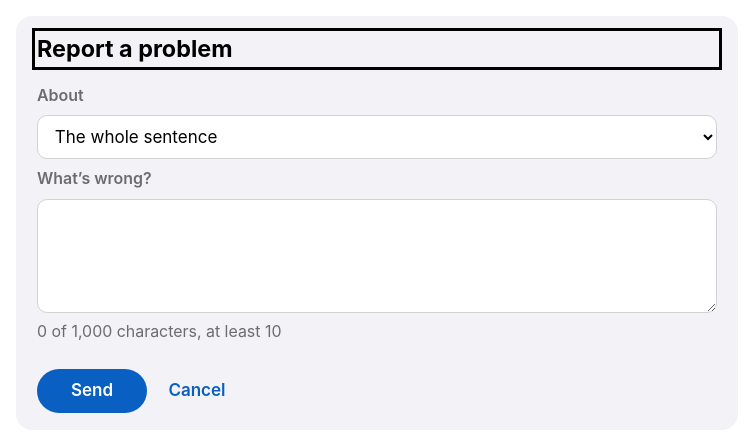
Scenario: FlagForm › flags the whole sentence without a word index
The width and height of the screenshot is (755, 447).
Step 1. Type "This is not English." into the text box labelled "What’s wrong?" → {"x": 377, "y": 256}, box top-left (37, 199), bottom-right (717, 313)
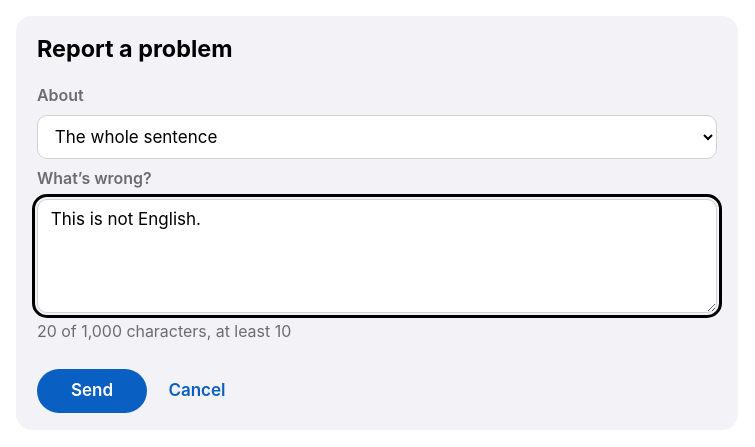
Step 2. Click the button "Send" → {"x": 92, "y": 391}, box top-left (37, 369), bottom-right (147, 413)
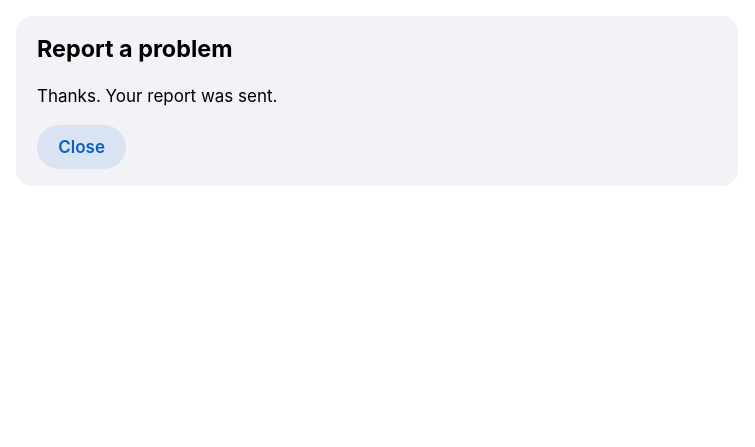
Expected: the message shows "Thanks", top-left (37, 86), bottom-right (278, 106)
